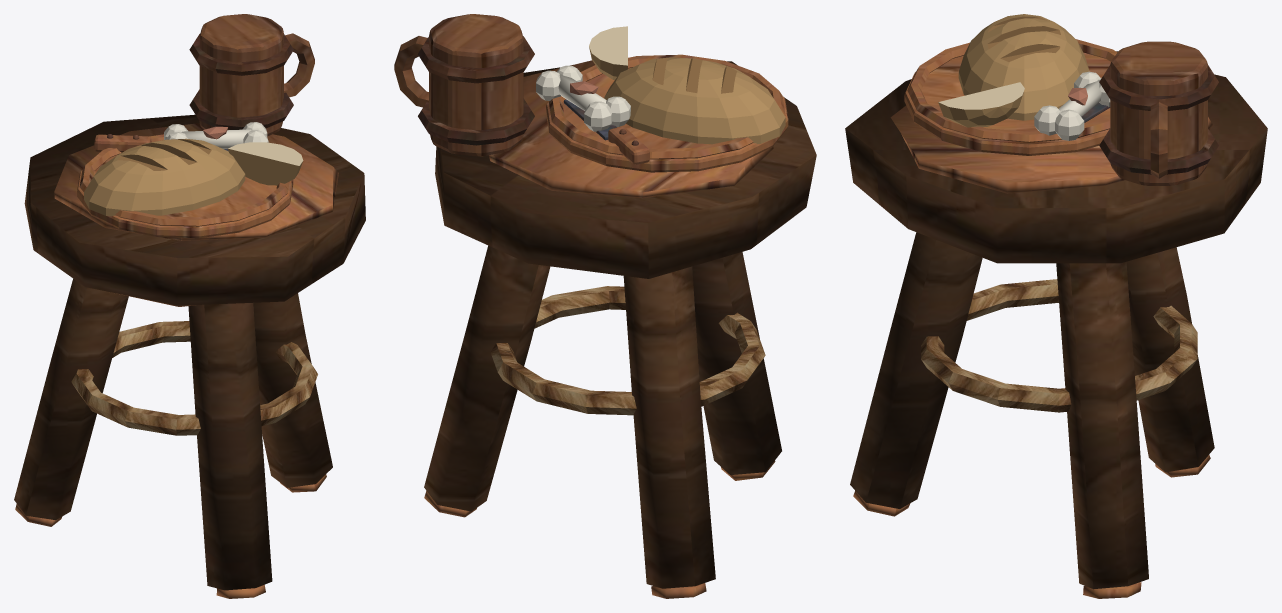
The model's file is last_meal.glb.
3 renders of one model, left to right at view 1: azimuth 30°, elevation 25°; view 2: azimuth 150°, elevation 25°; view 3: azimuth 270°, elevation 25°, orthographic. The views are drawn at different scales.
Visible parts, largest first — view 1: model; view 2: model; view 3: model.
Boxes of the visible parts, x1,y1,x2,y2 form: model: (14, 14, 365, 598); model: (394, 14, 816, 598); model: (845, 14, 1267, 598).
Size of the model in its own units: 0.4055 by 0.5702 by 0.423.
Materials: 14 (9 with a texture image).
